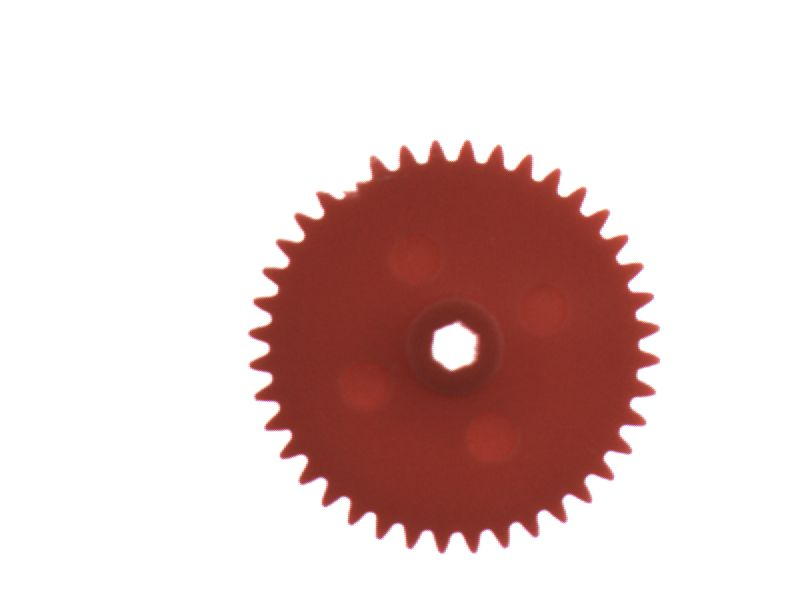defect_lack: (325, 162, 377, 211)
